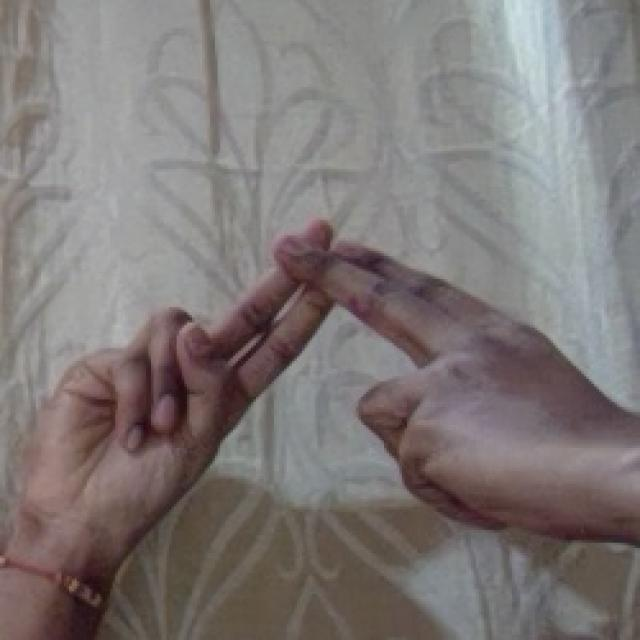Alphabet-F: (10, 220, 589, 548)
